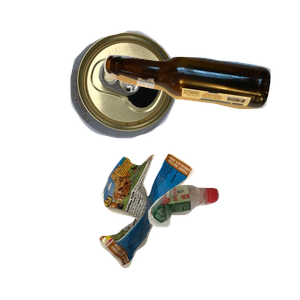glass: (101, 52, 300, 154)
metal: (68, 28, 237, 159)
plastic: (146, 182, 300, 300)
trash: (97, 151, 283, 300)
